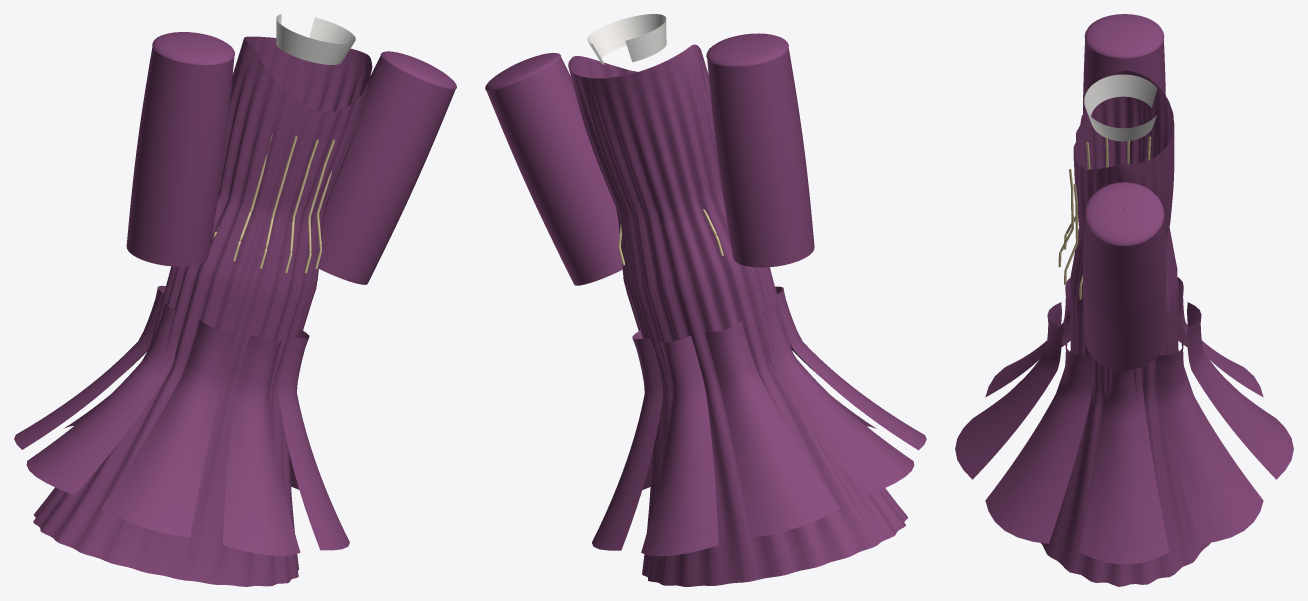
Rendered from garment.glb.
The picture shows the model from 3 angles, left to right: view 1: azimuth 30°, elevation 25°; view 2: azimuth 150°, elevation 25°; view 3: azimuth 270°, elevation 25°; orthographic projection. The views are drawn at different scales.
Visible parts, largest first — view 1: shell · Silk velvet, modular-panels · Silk velvet, left sleeve · Silk velvet, right sleeve · Silk velvet, standing-collar · Silk mikado, rib-cage · Metallic lamé; view 2: shell · Silk velvet, modular-panels · Silk velvet, left sleeve · Silk velvet, right sleeve · Silk velvet, standing-collar · Silk mikado; view 3: modular-panels · Silk velvet, shell · Silk velvet, right sleeve · Silk velvet, left sleeve · Silk velvet, standing-collar · Silk mikado, rib-cage · Metallic lamé.
Boxes of the visible parts, left/top/right/bottom form: shell · Silk velvet: left=33, top=36, right=372, bottom=586; modular-panels · Silk velvet: left=14, top=285, right=349, bottom=556; left sleeve · Silk velvet: left=126, top=32, right=234, bottom=266; right sleeve · Silk velvet: left=319, top=51, right=456, bottom=284; standing-collar · Silk mikado: left=276, top=14, right=355, bottom=64; rib-cage · Metallic lamé: left=212, top=134, right=335, bottom=273; shell · Silk velvet: left=568, top=44, right=907, bottom=586; modular-panels · Silk velvet: left=592, top=286, right=926, bottom=556; left sleeve · Silk velvet: left=706, top=33, right=814, bottom=267; right sleeve · Silk velvet: left=485, top=52, right=622, bottom=285; standing-collar · Silk mikado: left=587, top=14, right=666, bottom=64; modular-panels · Silk velvet: left=955, top=277, right=1293, bottom=564; shell · Silk velvet: left=1041, top=70, right=1210, bottom=586; right sleeve · Silk velvet: left=1083, top=182, right=1165, bottom=370; left sleeve · Silk velvet: left=1083, top=14, right=1165, bottom=113; standing-collar · Silk mikado: left=1084, top=74, right=1157, bottom=141; rib-cage · Metallic lamé: left=1058, top=136, right=1151, bottom=299.
Size of the model in its own units: 1.24 by 1.55 by 0.9227.
